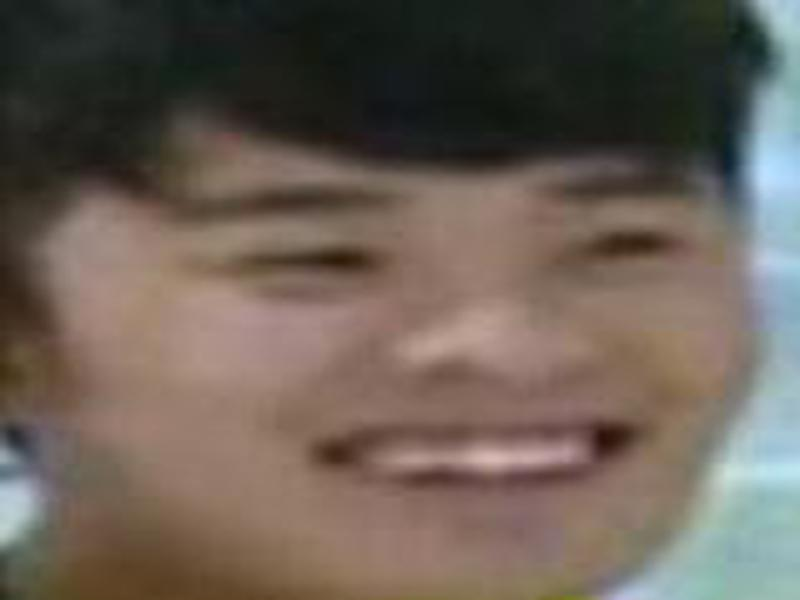without_mask: (31, 101, 753, 593)
